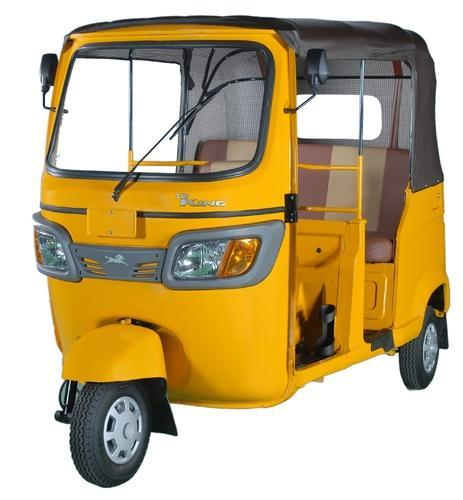auto: (33, 15, 452, 489)
